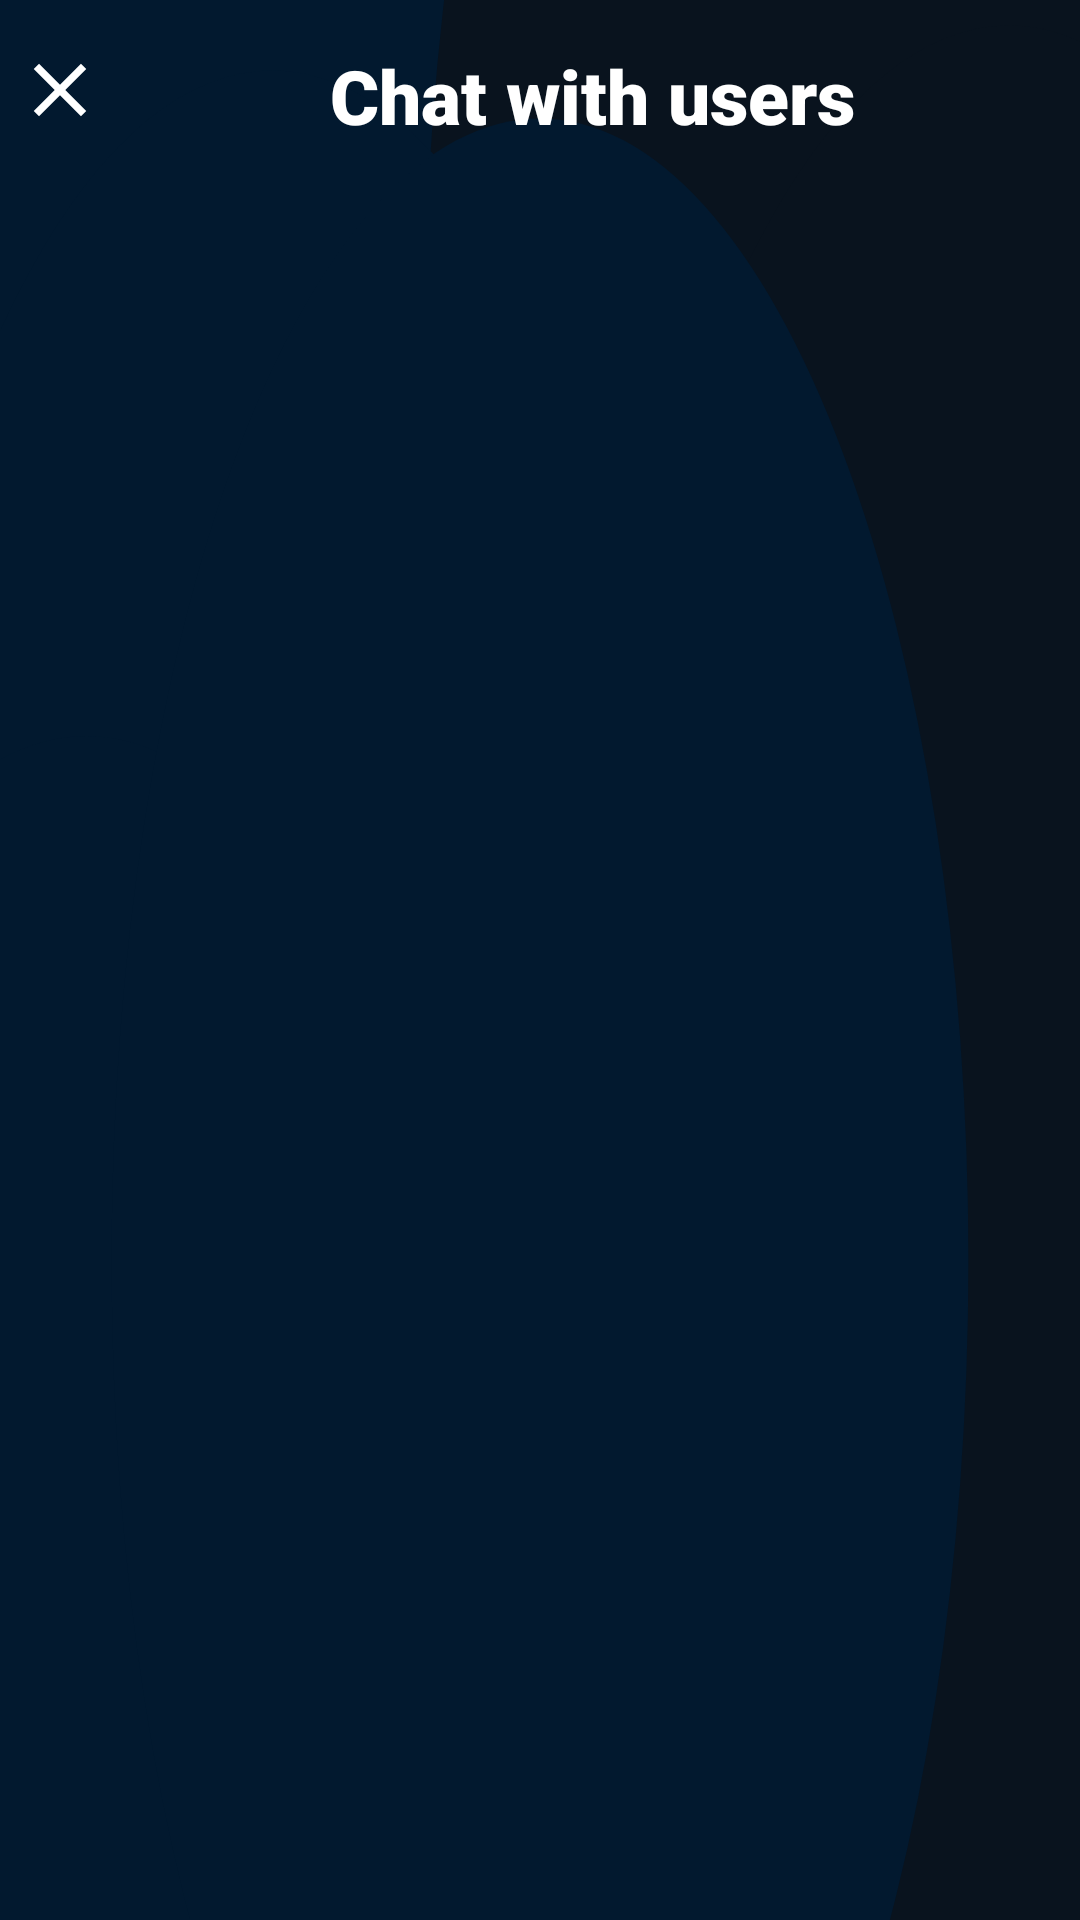

Named icons in this screenshot (1080*1920) and their centers, point (x, y):
close: point (60, 90)
